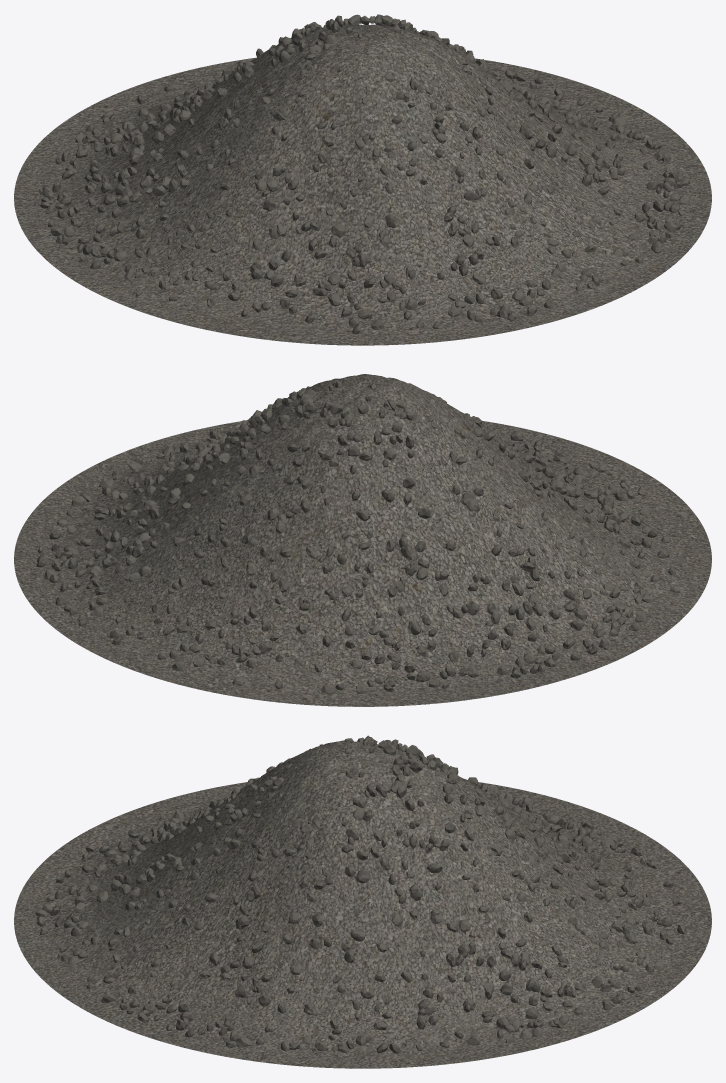
The model's file is ALV-AGR-005.glb.
3 renders of one model, top to bottom at view 1: azimuth 30°, elevation 25°; view 2: azimuth 150°, elevation 25°; view 3: azimuth 270°, elevation 25°, orthographic.
Parts seen in each view (by area): view 1: Monte de brita 1 (0,1 m³); view 2: Monte de brita 1 (0,1 m³); view 3: Monte de brita 1 (0,1 m³).
Part boxes in pixels (box(x1,y1,x2,y2)): Monte de brita 1 (0,1 m³): box(14, 24, 711, 345); Monte de brita 1 (0,1 m³): box(14, 374, 711, 706); Monte de brita 1 (0,1 m³): box(14, 740, 711, 1068).
Bounding box in the file's own units: 1.14 × 0.32 × 1.14.
Materials: 1 (1 with a texture image).
